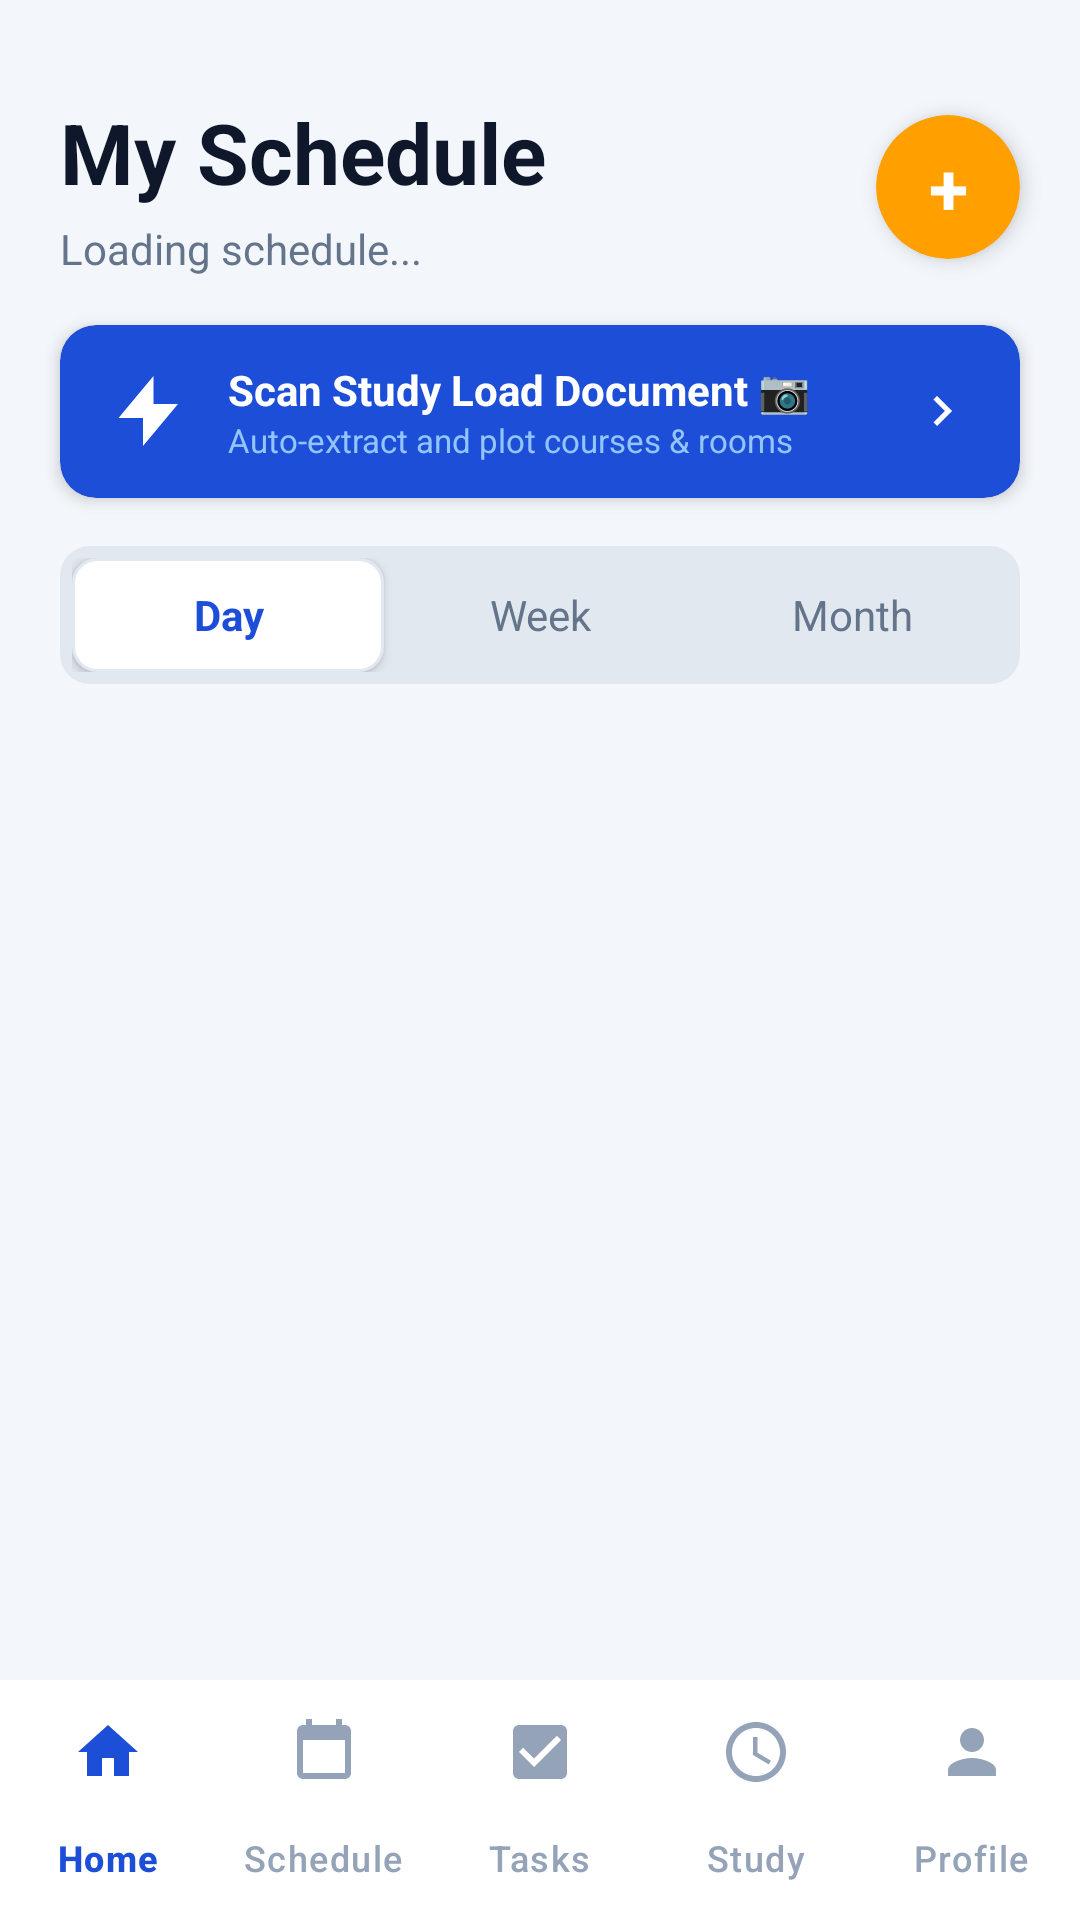

Named icons in this screenshot (1080 x 1920) and their centers, [x,y]:
arrow right: [942,411]
